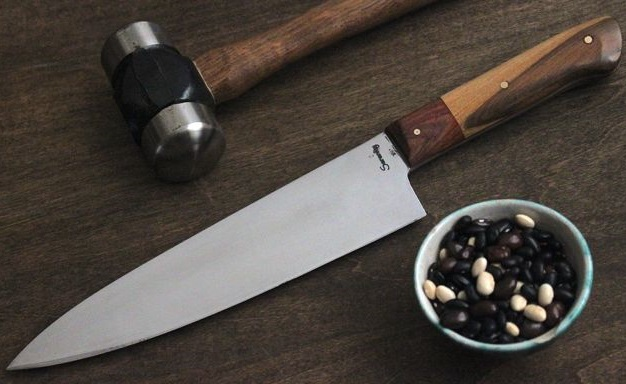knife: (4, 124, 431, 375)
